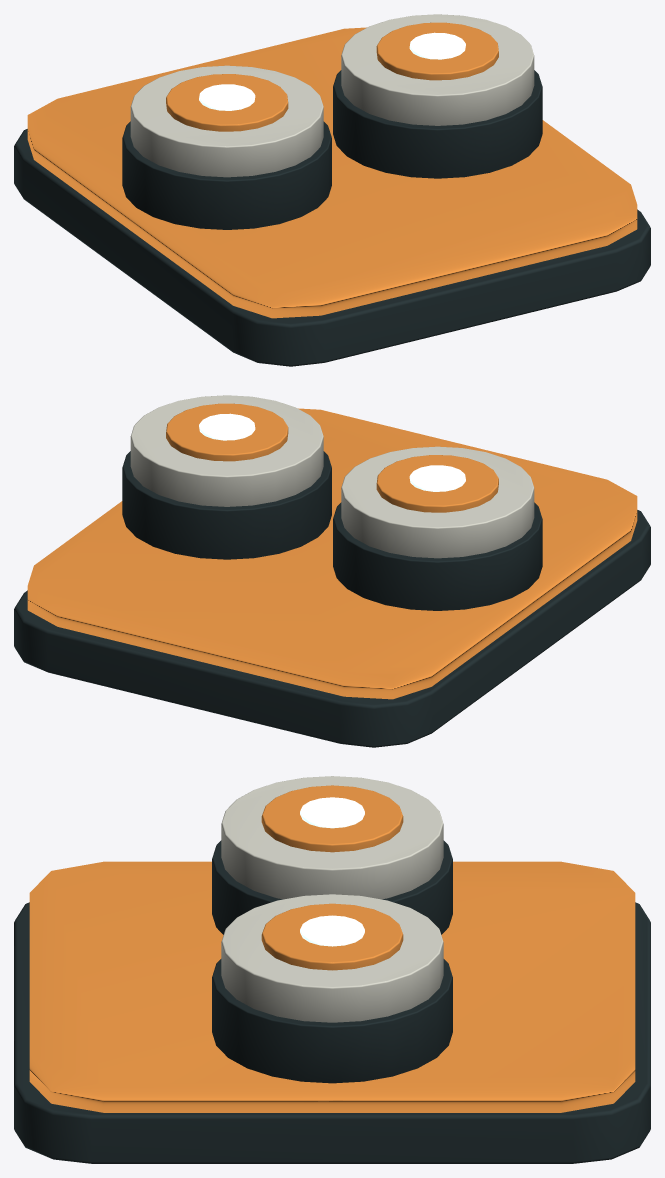
File: module-drone.glb
3 renders of one model, top to bottom at view 1: azimuth 30°, elevation 25°; view 2: azimuth 150°, elevation 25°; view 3: azimuth 270°, elevation 25°, orthographic. The views are drawn at different scales.
Visible parts, largest first — view 1: Module_drone_Team, Module_drone_Factory_Mechanical, Module_drone_Factory_Ceramic, Module_drone_Light; view 2: Module_drone_Team, Module_drone_Factory_Mechanical, Module_drone_Factory_Ceramic, Module_drone_Light; view 3: Module_drone_Team, Module_drone_Factory_Mechanical, Module_drone_Factory_Ceramic, Module_drone_Light.
Part boxes in pixels (left/top/right/bottom): Module_drone_Team: left=27, top=22, right=637, bottom=318; Module_drone_Factory_Mechanical: left=14, top=70, right=650, bottom=366; Module_drone_Factory_Ceramic: left=130, top=14, right=534, bottom=177; Module_drone_Light: left=199, top=32, right=465, bottom=110; Module_drone_Team: left=27, top=403, right=637, bottom=699; Module_drone_Factory_Mechanical: left=14, top=451, right=650, bottom=747; Module_drone_Factory_Ceramic: left=130, top=395, right=534, bottom=558; Module_drone_Light: left=199, top=413, right=465, bottom=491; Module_drone_Team: left=29, top=785, right=635, bottom=1112; Module_drone_Factory_Mechanical: left=14, top=840, right=650, bottom=1163; Module_drone_Factory_Ceramic: left=221, top=776, right=443, bottom=1022; Module_drone_Light: left=300, top=797, right=364, bottom=946.
Size of the model in its own units: 0.7 by 0.257 by 0.82.
